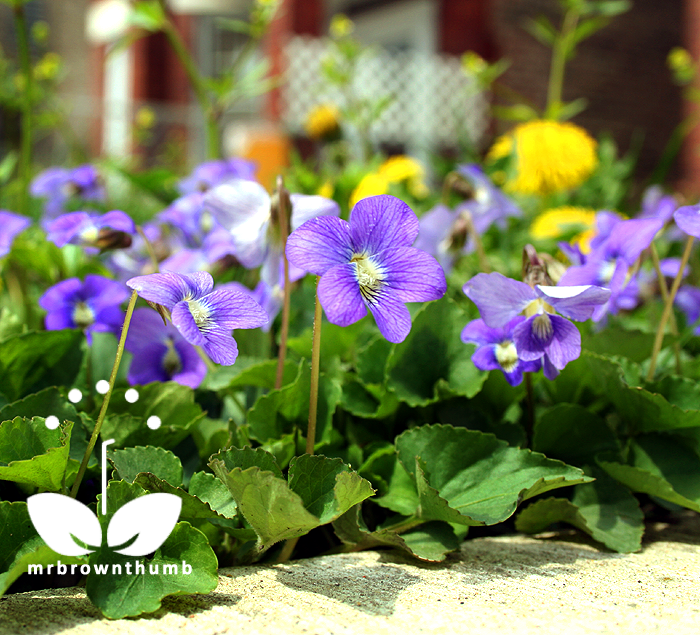violet: (292, 221, 466, 352), (459, 263, 612, 398), (133, 266, 260, 375)
